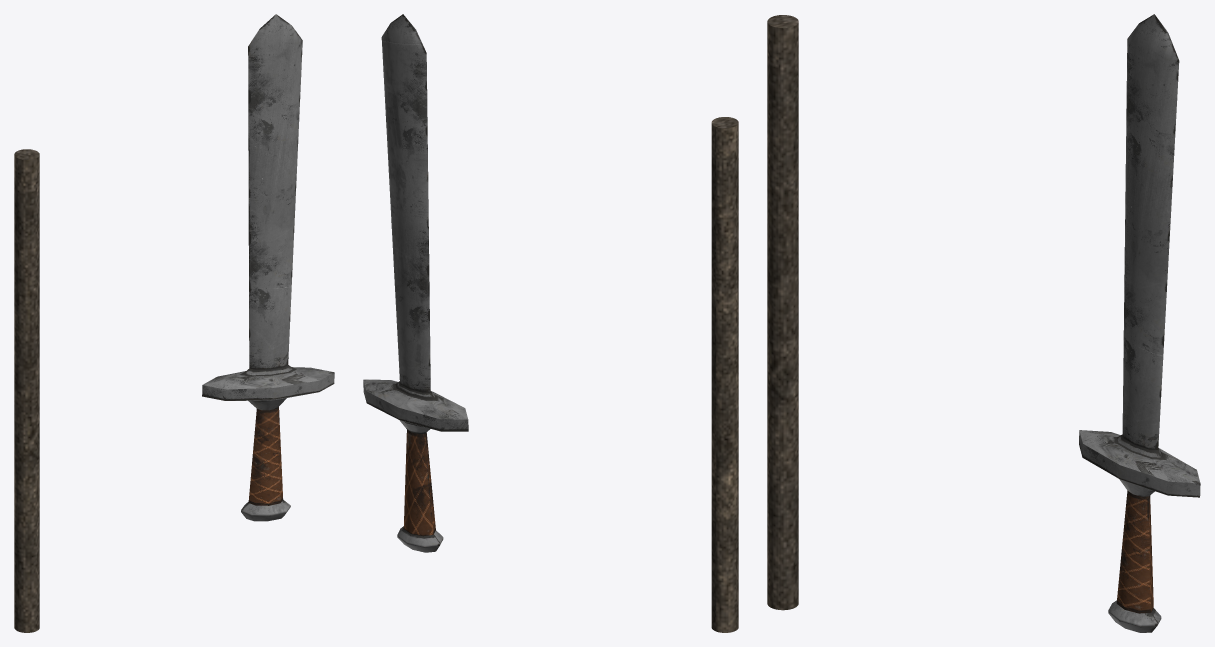
File: hand_props (1).fbx
3 renders of one model, left to right at view 1: azimuth 30°, elevation 25°; view 2: azimuth 150°, elevation 25°; view 3: azimuth 330°, elevation 25°, orthographic. The views are drawn at different scales.
Parts seen in each view (by area): view 1: Sword and shield.004, stick; view 2: Sword and shield.004, stick; view 3: Sword and shield.004, stick.
Boxes of the visible parts, box(x1,y1,x2,y2) form: Sword and shield.004: box(202, 14, 334, 521); stick: box(14, 149, 39, 632); Sword and shield.004: box(363, 14, 468, 552); stick: box(711, 117, 738, 632); Sword and shield.004: box(1079, 14, 1200, 632); stick: box(767, 15, 798, 610).
Size of the model in its own units: 112 by 168 by 25.83.
Materials: 2 (2 with a texture image).
